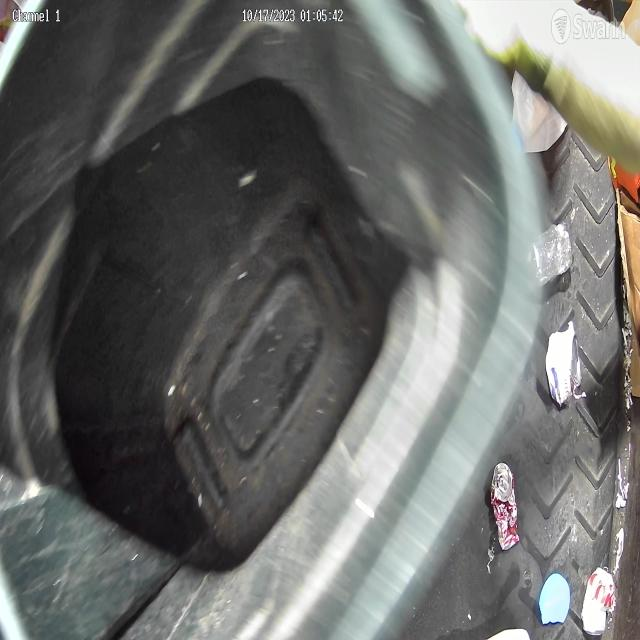can: (490, 462, 521, 552), (582, 564, 619, 636), (546, 328, 580, 404)
milk_jug: (510, 70, 568, 154)
plastic_bottle: (537, 220, 571, 285)
